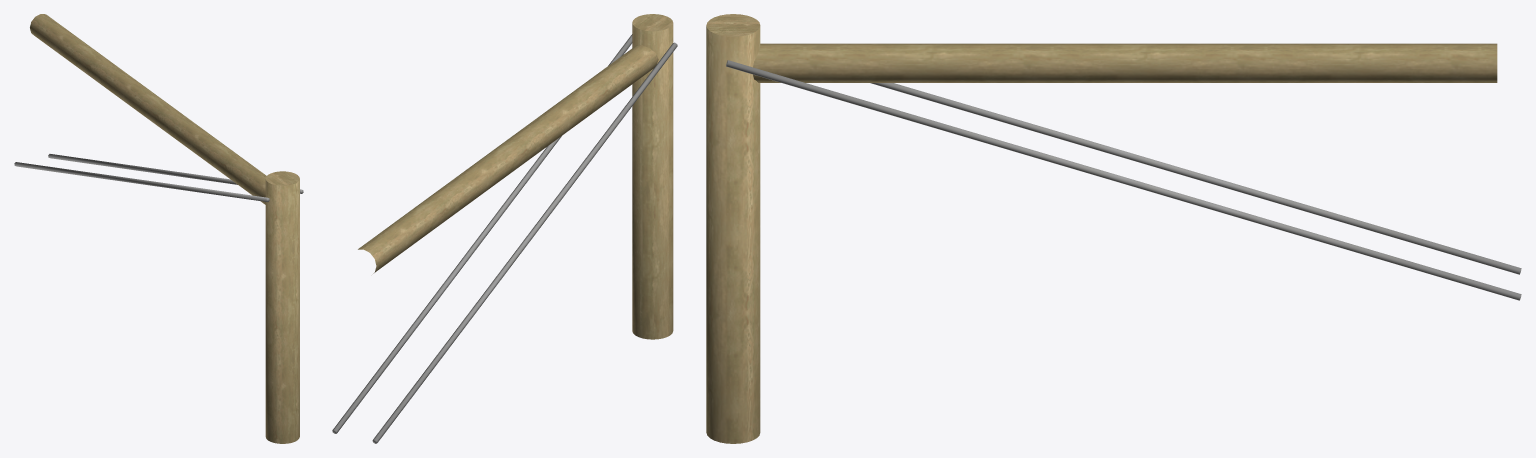
The model's file is farm-fenceWood-end-cbj_LOD00.gltf.
3 renders of one model, left to right at view 1: azimuth 30°, elevation 25°; view 2: azimuth 150°, elevation 25°; view 3: azimuth 270°, elevation 25°, orthographic. The views are drawn at different scales.
Visible parts, largest first — view 1: fence00; view 2: fence00; view 3: fence00.
Boxes of the visible parts, x1,y1,x2,y2 form: fence00: [14, 14, 303, 443]; fence00: [332, 14, 677, 443]; fence00: [706, 14, 1521, 443].
Size of the model in its own units: 0.2762 by 1.83 by 3.32.
